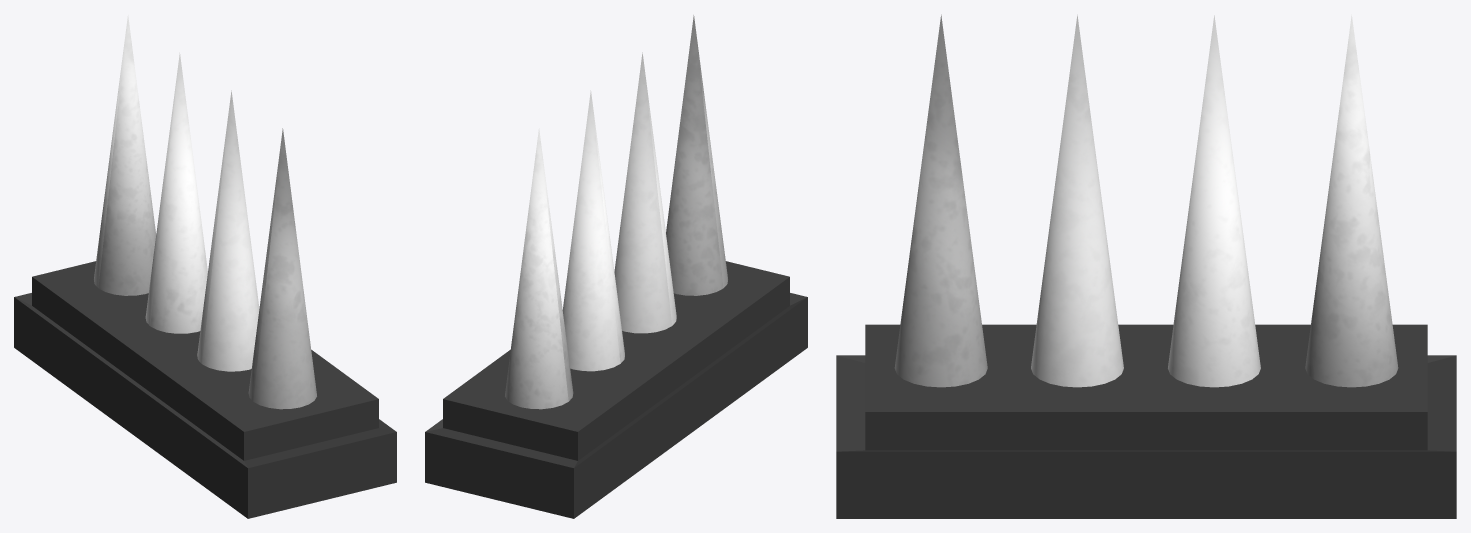
File: spikes.fbx
3 views of the same model, side by side, from view 1: azimuth 30°, elevation 25°; view 2: azimuth 150°, elevation 25°; view 3: azimuth 270°, elevation 25° (orthographic). The views are drawn at different scales.
Parts seen in each view (by area): view 1: Base, Spikes; view 2: Base, Spikes; view 3: Base, Spikes.
Part boxes in pixels (bbox=[...]): Base: bbox=[14, 261, 396, 518]; Spikes: bbox=[94, 15, 316, 409]; Base: bbox=[425, 261, 807, 518]; Spikes: bbox=[505, 15, 727, 409]; Base: bbox=[836, 324, 1456, 518]; Spikes: bbox=[894, 14, 1398, 387].
Bounding box in the file's own units: 90.71 × 201 × 247.
Materials: 2 (1 with a texture image).
